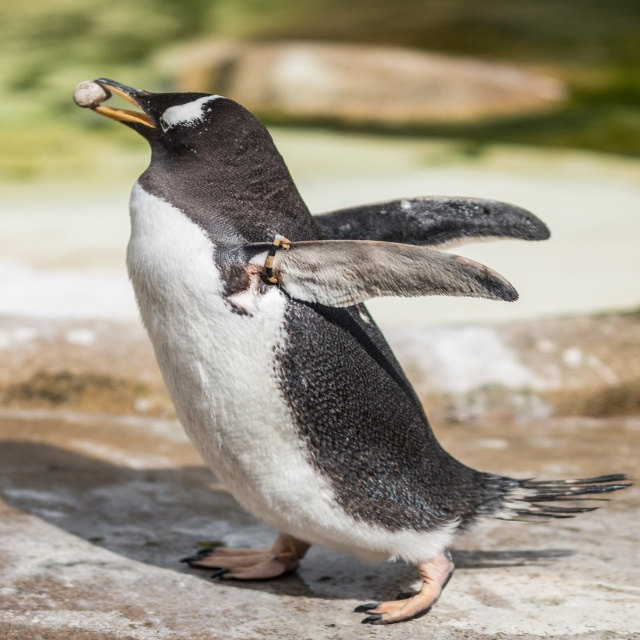Penguin: (89, 77, 638, 625)
